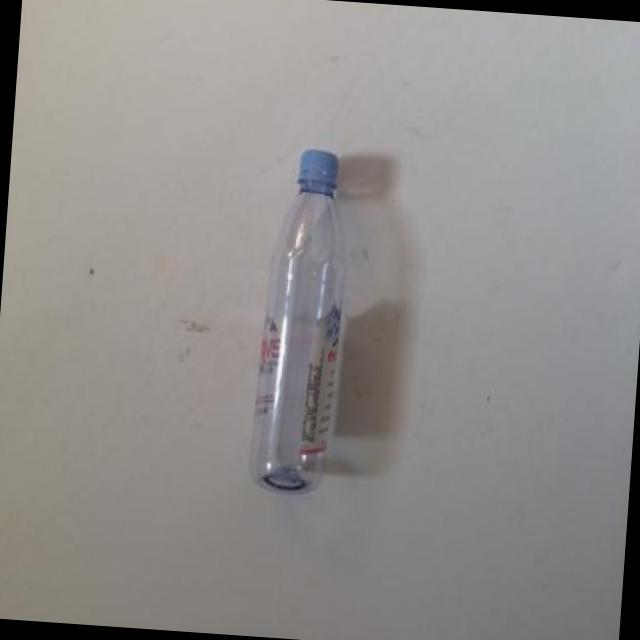Recycle: (254, 147, 358, 502)
